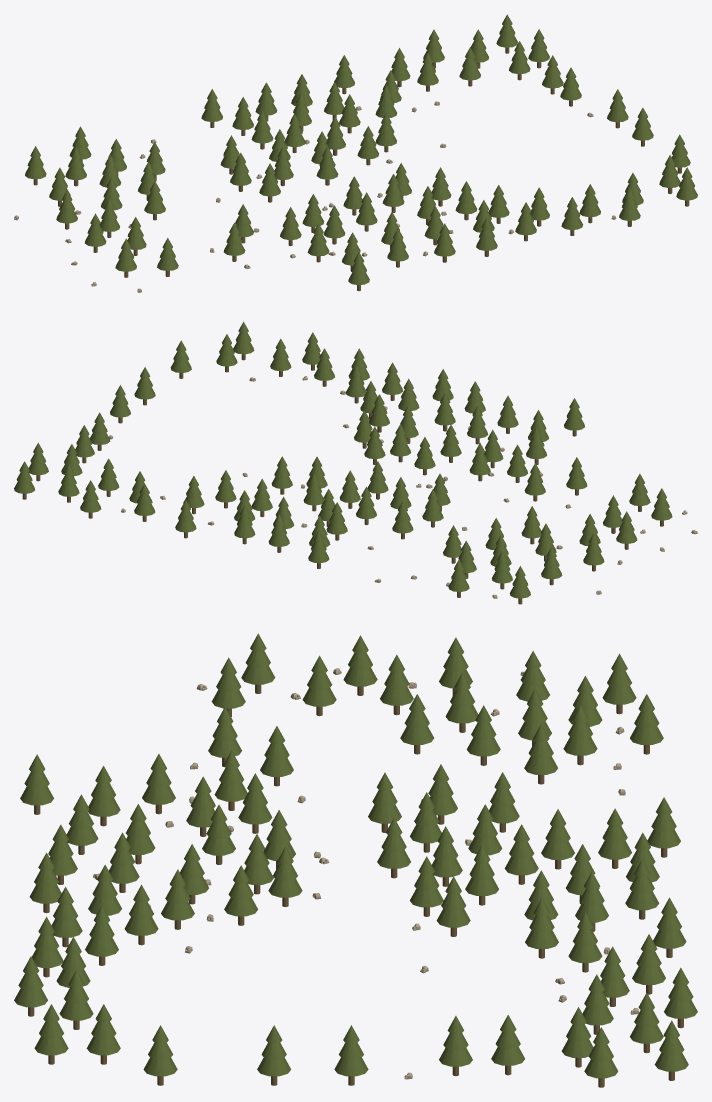
Rendered from trees_and_stones.fbx.
3 renders of one model, top to bottom at view 1: azimuth 30°, elevation 25°; view 2: azimuth 150°, elevation 25°; view 3: azimuth 270°, elevation 25°, orthographic. The views are drawn at different scales.
Size of the model in its own units: 68.9 by 4.5 by 46.62.
